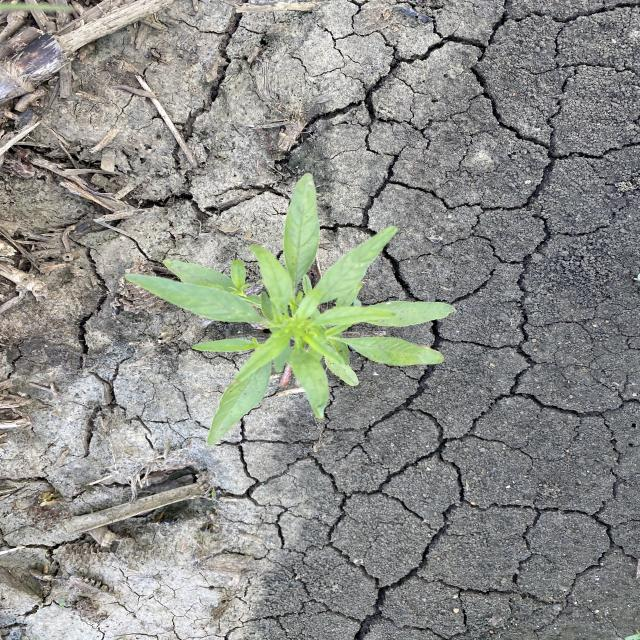Waterhemp: (122, 171, 458, 452)
